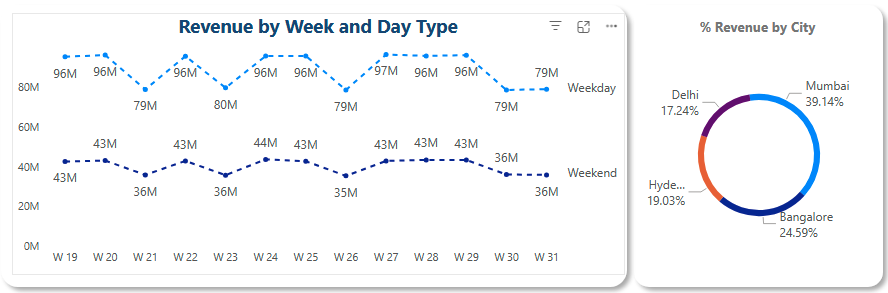

The dashboard page shown, as its layout file describes it:
{"tool":"powerbi","page":{"name":"tt1","canvas":[900,300],"ordinal":2},"visuals":[{"type":"shape","box":[632.7,0,267.3,300],"z":0},{"type":"shape","box":[0,0,644.2,300],"z":1000},{"type":"lineChart","title":"Revenue by Week and Day Type","fields":{"Category":["dim_date.week no"],"Y":["Key Measures.Revenue"],"Series":["dim_date.day type"]},"box":[20.2,17.3,612.5,261.5],"z":2000},{"type":"donutChart","fields":{"Y":["Key Measures.Revenue"],"Category":["dim_hotels.city"]},"box":[649,69.2,235.6,179.8],"z":3000},{"type":"textbox","box":[643.3,17.3,246.2,27.9],"z":4000}]}

Visuals, with their boxes in screenshot pixels (x1, y1, x2, y2), scaled from the page's 900x300 canvas onto the 888x293 screenshot:
shape: x1=624 y1=0 x2=887 y2=292
shape: x1=0 y1=0 x2=636 y2=292
"Revenue by Week and Day Type" lineChart: x1=20 y1=17 x2=624 y2=272
donutChart - Key Measures.Revenue x dim_hotels.city: x1=640 y1=68 x2=873 y2=243
textbox: x1=635 y1=17 x2=878 y2=44
